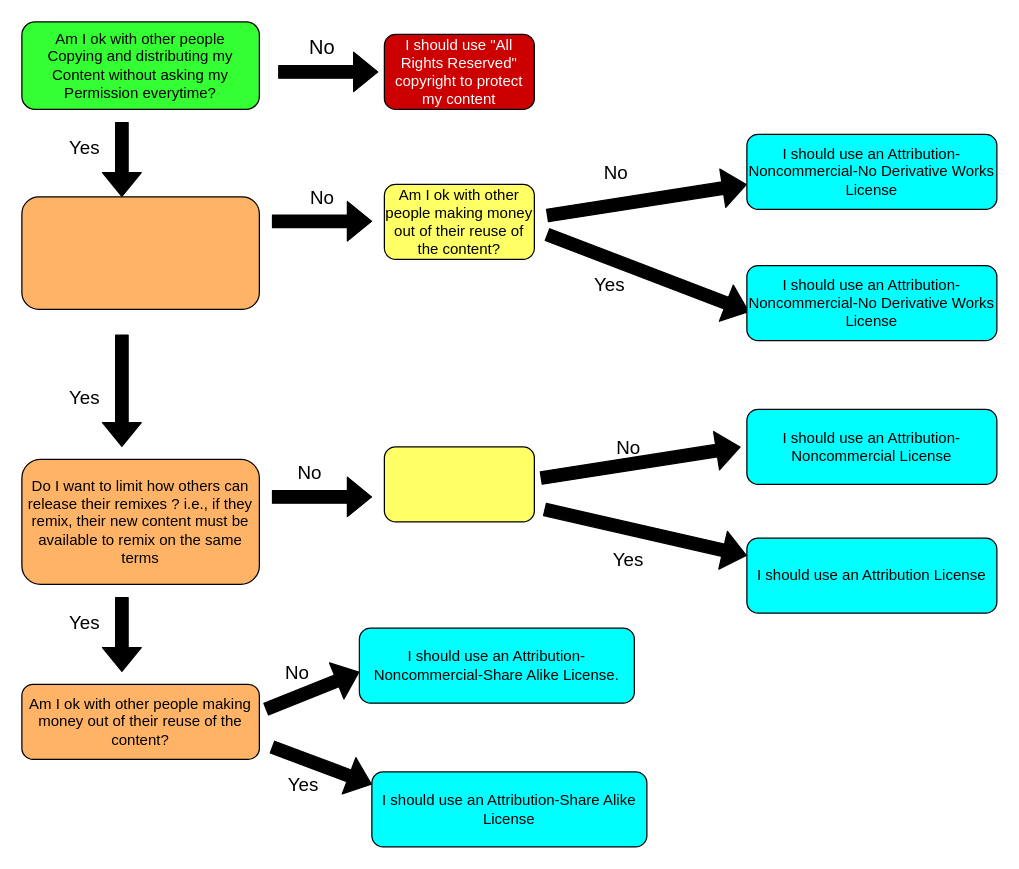
This 1019x869 diagram has some shape labels left out. Here are the shapes that lost their labels. From the top down, the box of each, then its label:
(21, 196, 259, 309): Am I ok with them changing and adapting the content? Will I allow remixing?
(383, 446, 534, 522): Am I ok with other people making out of their reuse of the content?
